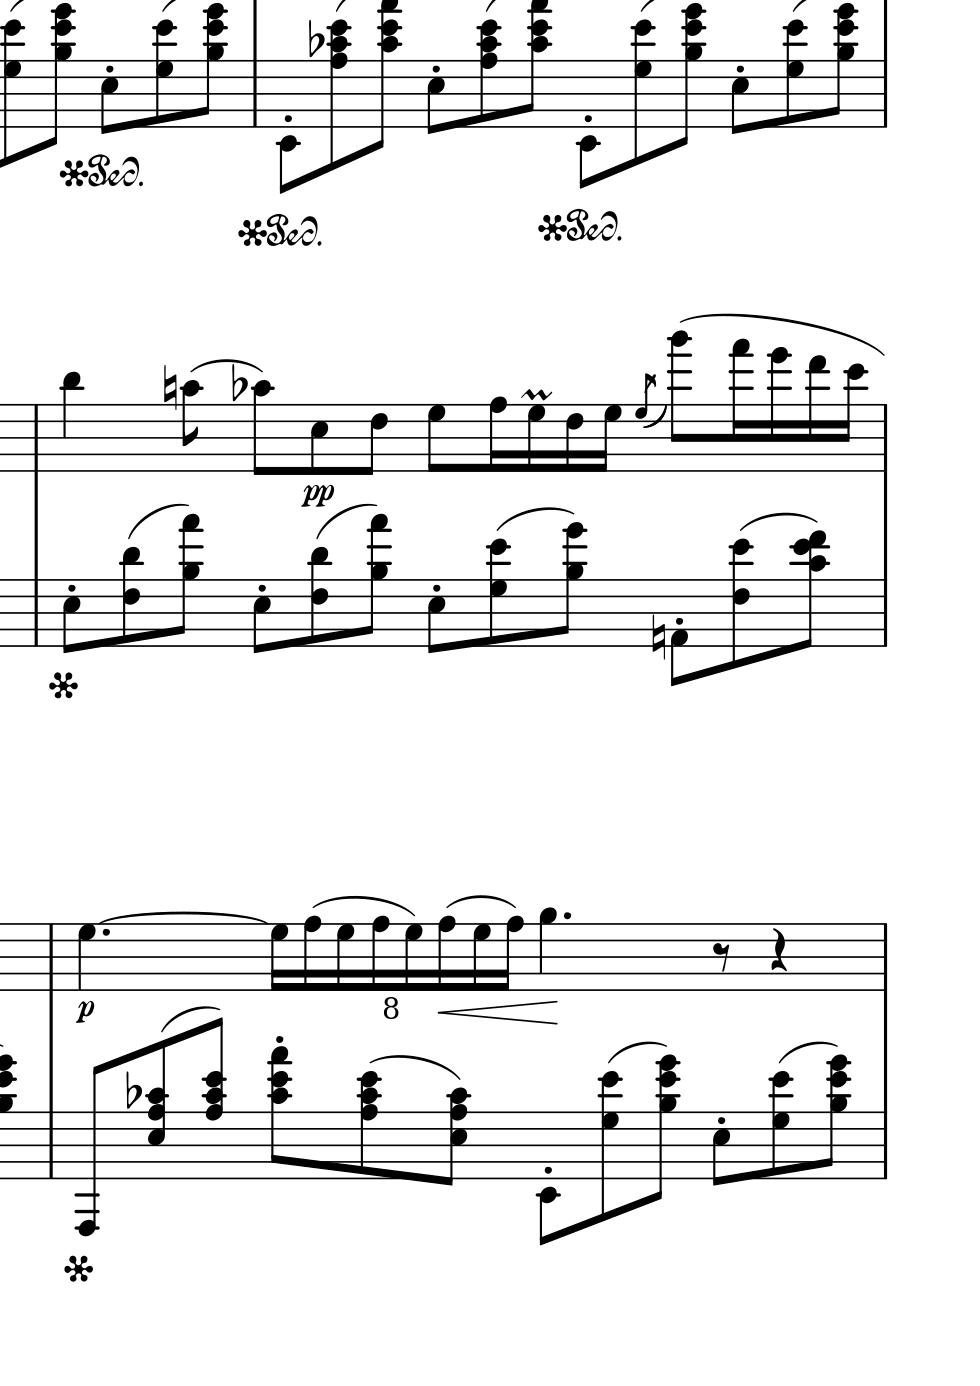16_12: (837, 362, 869, 473)
16_13: (804, 353, 829, 476)
16_14: (766, 345, 790, 475)
16_15: (729, 341, 752, 471)
16_6: (564, 403, 584, 474)
16_7: (593, 402, 622, 475), (524, 402, 546, 474), (470, 922, 491, 994), (334, 922, 355, 993), (268, 922, 288, 994), (403, 922, 423, 994)
16_8: (496, 914, 525, 992), (435, 915, 456, 993), (301, 915, 322, 992), (487, 396, 507, 473), (370, 914, 390, 992)
4_11: (59, 371, 83, 473)
4_7: (75, 922, 99, 993)
4_9: (536, 906, 558, 993)
8_-2: (274, 57, 302, 195), (533, 1107, 561, 1246), (575, 57, 601, 190)
8_-6: (74, 1060, 108, 1238)
8_1: (667, 579, 688, 688)
8_10: (251, 379, 275, 476), (180, 379, 204, 474)
8_16: (667, 331, 694, 472)
8_4_11: (118, 546, 145, 649), (307, 545, 334, 648), (307, 544, 334, 647)
8_4th: (474, 15, 502, 131)
8_5: (710, 1111, 732, 1188), (425, 578, 447, 656), (98, 59, 119, 137), (729, 59, 750, 137), (60, 578, 82, 655), (250, 579, 272, 656), (308, 402, 329, 476), (425, 59, 445, 136)
8_6: (360, 402, 388, 477)
8_6_12: (728, 537, 753, 669)
8_7: (426, 402, 447, 473)
8_7_12: (1, 17, 27, 166), (629, 17, 654, 166), (597, 1069, 622, 1221), (768, 1069, 797, 1180), (781, 18, 806, 128)
8_9_14: (560, 521, 589, 649)
8_9_15: (363, 513, 392, 649), (173, 512, 202, 648)
8_th: (642, 1052, 683, 1207), (672, 1, 710, 155), (367, 1, 402, 163), (42, 1, 78, 152), (196, 2, 233, 129), (327, 17, 354, 177), (820, 1053, 854, 1180), (264, 1040, 295, 1176), (203, 1018, 228, 1180), (828, 1, 860, 129), (520, 1, 550, 126), (436, 1086, 472, 1187), (353, 1070, 381, 1183), (145, 1041, 168, 1180)
Acciaccature: (634, 370, 657, 471)
Crescendo_hairpin: (437, 1000, 560, 1025)
Flat: (123, 1068, 142, 1111), (305, 16, 323, 59), (229, 361, 246, 403)
Natural: (650, 612, 666, 663), (161, 363, 177, 413)
Rests4: (767, 927, 789, 973)
Rests8: (710, 941, 733, 973)
ShortTrill: (517, 388, 558, 400)
Single_barline: (875, 403, 892, 472), (27, 579, 43, 647), (876, 924, 893, 990), (27, 405, 43, 471), (42, 1112, 59, 1178), (43, 924, 59, 992), (876, 580, 892, 647), (877, 62, 892, 128), (877, 1112, 892, 1179), (247, 62, 262, 127)
Slur: (676, 311, 881, 357), (368, 1053, 459, 1082), (98, 911, 265, 926), (490, 506, 574, 533), (316, 501, 374, 540), (128, 502, 187, 540), (311, 896, 415, 915), (159, 1005, 218, 1034), (735, 513, 818, 532), (777, 1040, 837, 1066), (607, 1040, 666, 1065), (187, 359, 263, 375), (444, 895, 517, 911)
dot: (98, 926, 111, 940), (560, 910, 572, 922)
p: (74, 998, 97, 1027)
pp: (298, 483, 335, 510)
